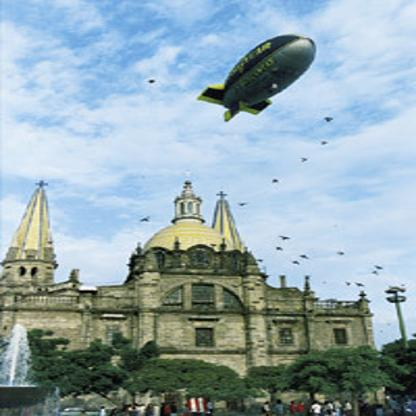Airship: (196, 29, 321, 124)
